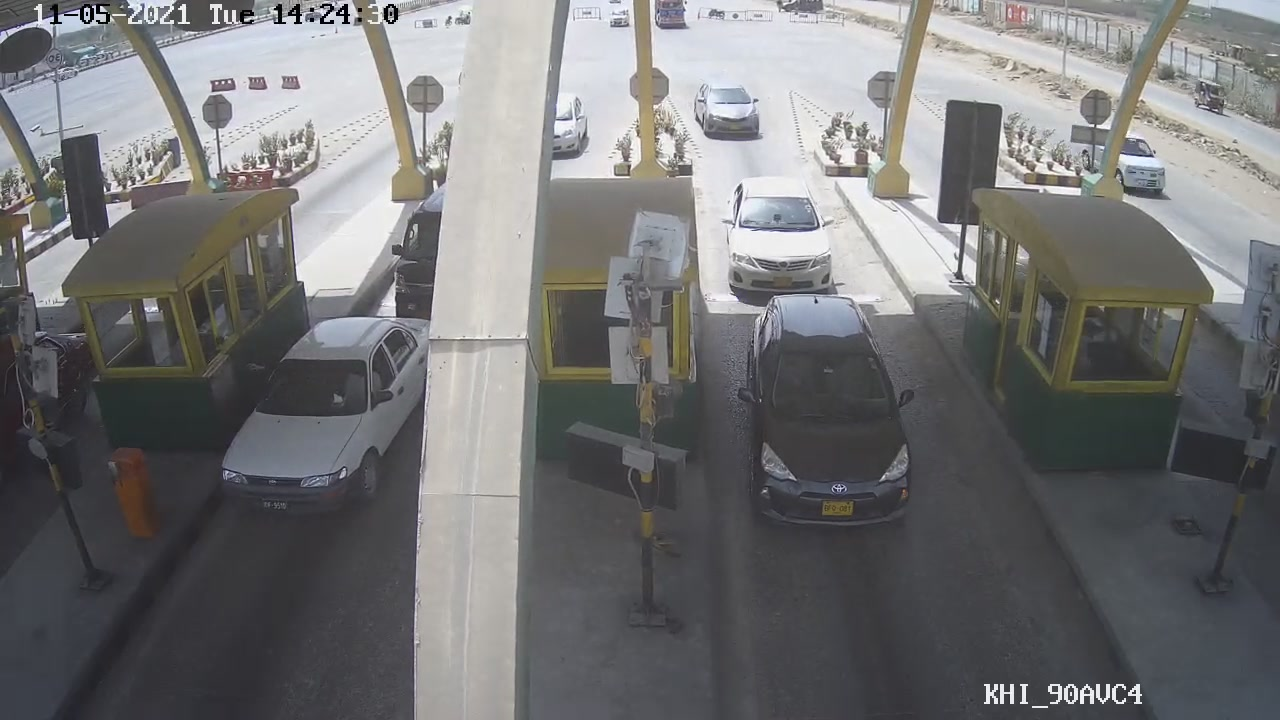F1: (733, 291, 919, 531)
